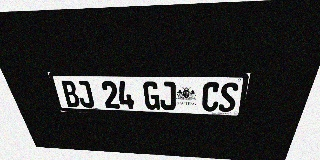2: (101, 81, 120, 108)
4: (116, 81, 135, 109)
B: (60, 80, 81, 107)
C: (201, 82, 221, 112)
G: (143, 81, 160, 110)
J: (74, 81, 95, 108), (159, 82, 176, 110)
S: (218, 82, 239, 112)
